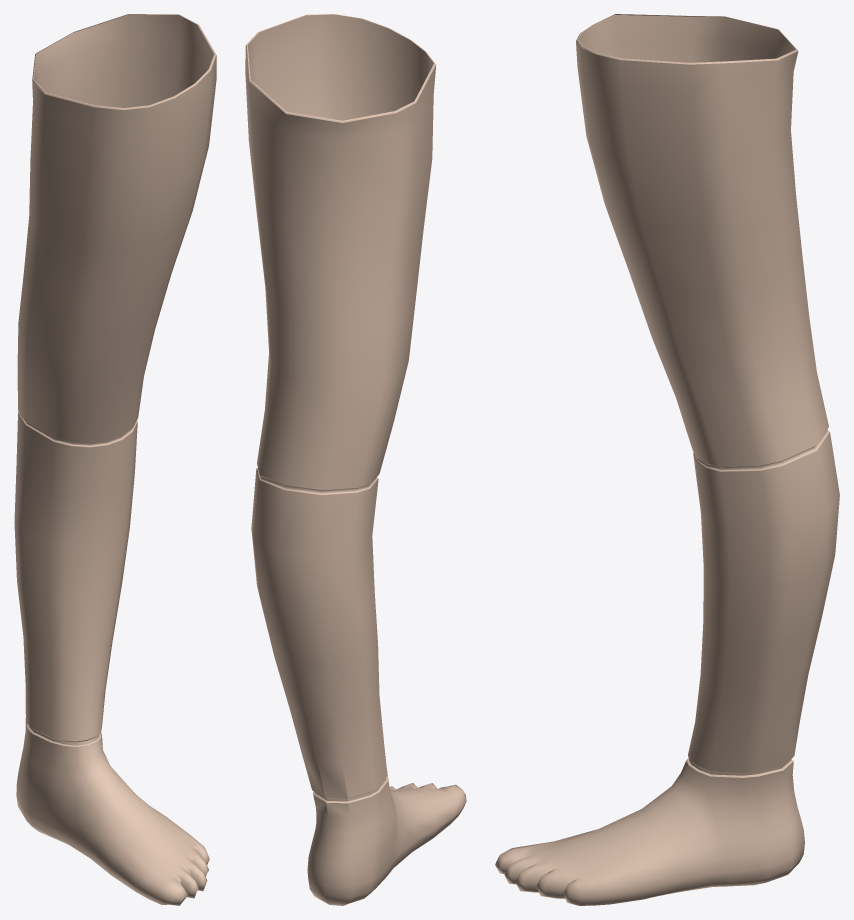
File: MannequinFemaleLegLeft.fbx
The picture shows the model from 3 angles, left to right: view 1: azimuth 30°, elevation 25°; view 2: azimuth 150°, elevation 25°; view 3: azimuth 270°, elevation 25°; orthographic projection. The views are drawn at different scales.
Visible parts, largest first — view 1: MannequinLeftLeftFemale1; view 2: MannequinLeftLeftFemale1; view 3: MannequinLeftLeftFemale1.
Boxes of the visible parts, x1,y1,x2,y2 form: MannequinLeftLeftFemale1: [14, 14, 216, 905]; MannequinLeftLeftFemale1: [245, 14, 466, 905]; MannequinLeftLeftFemale1: [495, 14, 839, 905].
Size of the model in its own units: 0.1649 by 0.8032 by 0.287.
